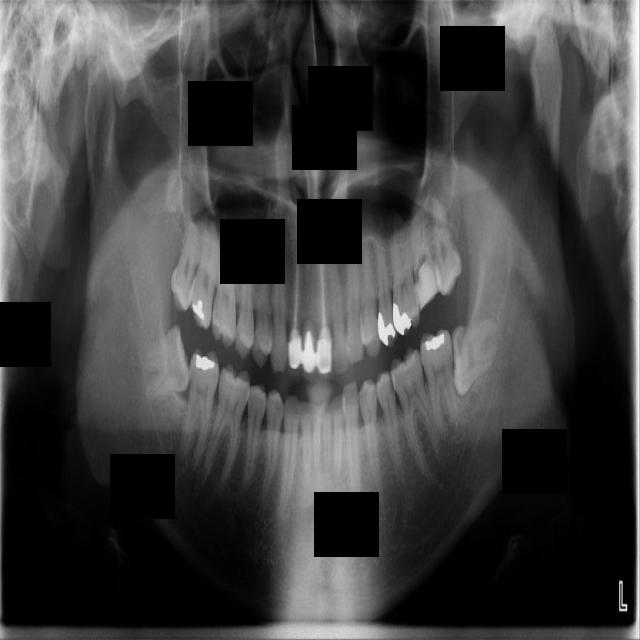3M ESPE Implant: (166, 215, 207, 313)
52: (287, 321, 334, 380), (405, 260, 455, 310), (415, 327, 458, 374), (185, 347, 224, 396), (392, 281, 422, 337), (190, 275, 213, 330), (378, 300, 398, 347)
73: (610, 566, 620, 576)
BioHorizons Implant: (407, 204, 444, 308)
BioLife Implant: (425, 195, 466, 297)
Biomet 3i Implant: (451, 318, 500, 397)
Blue Sky Bio Implant: (418, 327, 459, 437)
Caries: (185, 214, 226, 331)
Implant: (179, 348, 222, 469)
Keystone Dental Implant: (145, 324, 192, 402)
